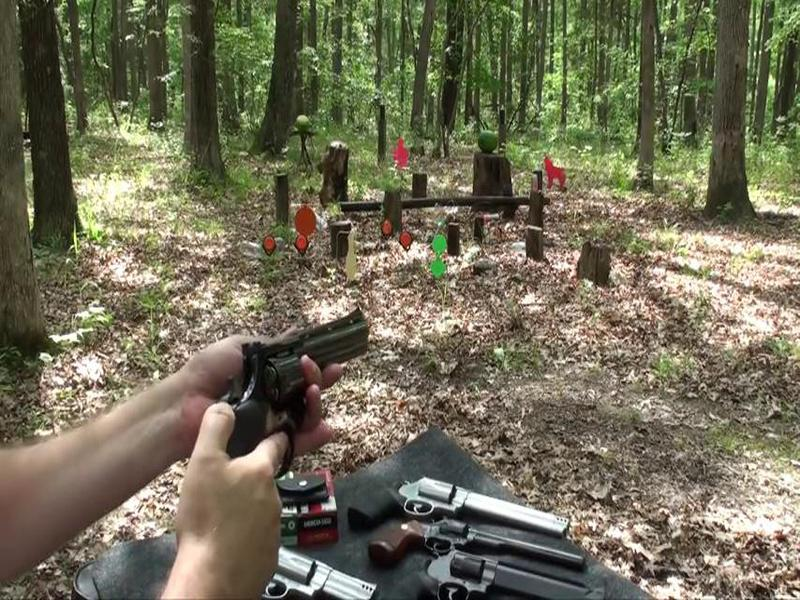Revolver: (201, 304, 396, 521)
